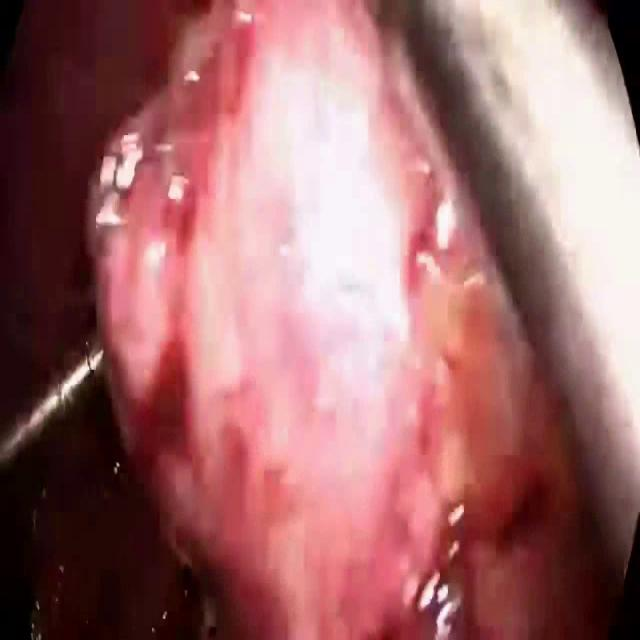surgical-area: (0, 0, 640, 639)
surgical-tool: (0, 321, 105, 480)
